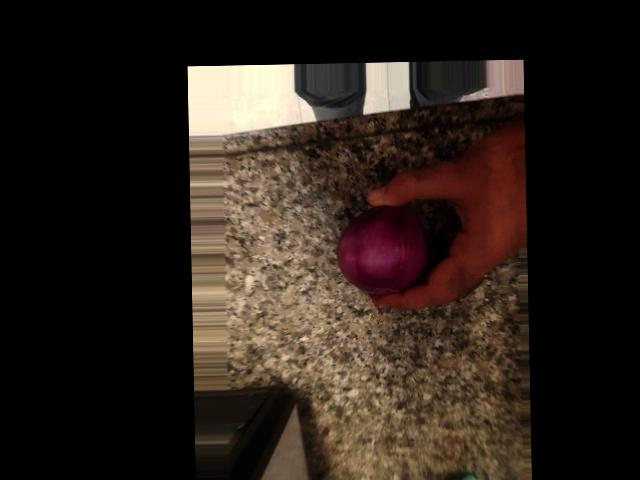onion: (242, 283, 329, 368)
